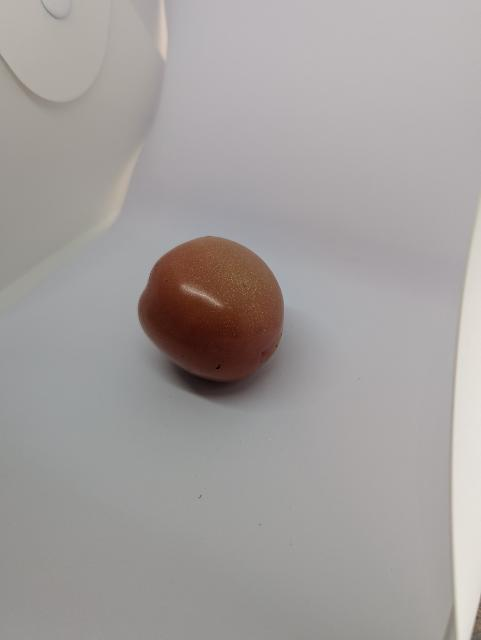red: (127, 229, 297, 394)
